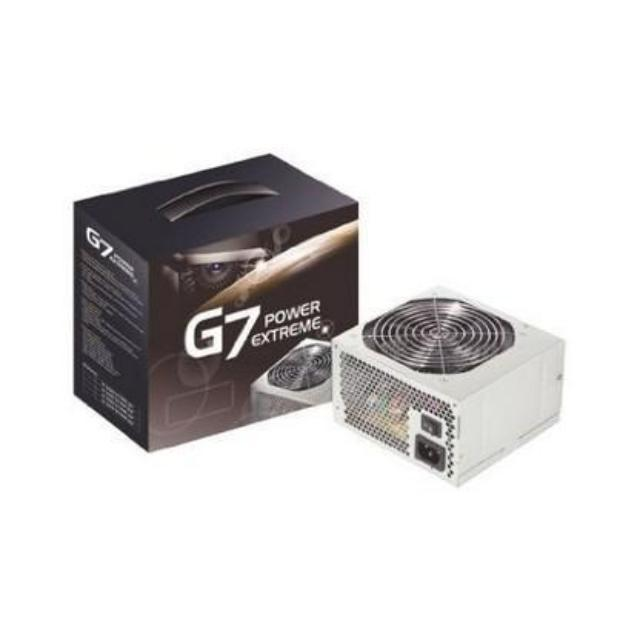PSU: (322, 272, 572, 498)
